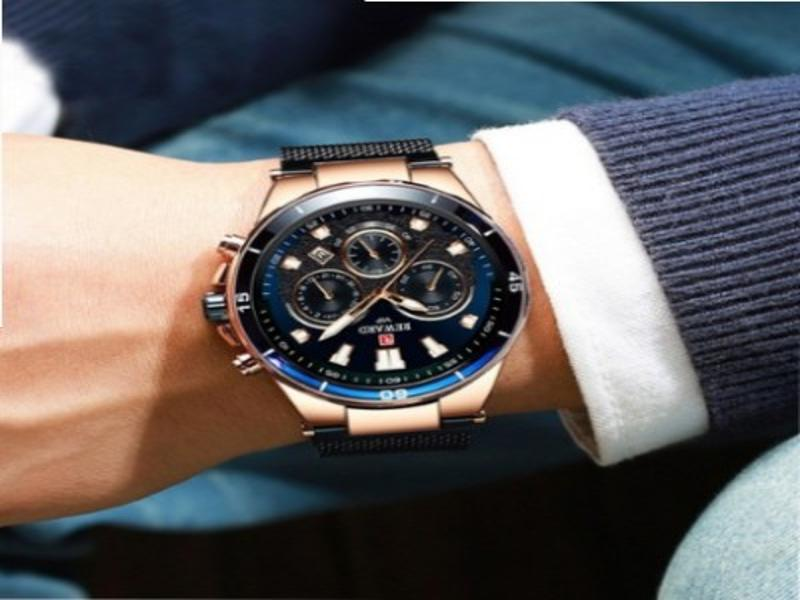watch: (203, 135, 531, 447)
